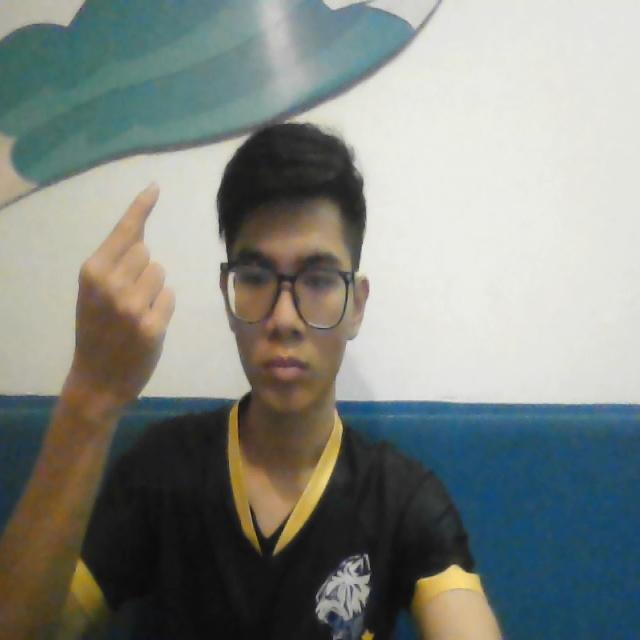G: (67, 160, 181, 398)
